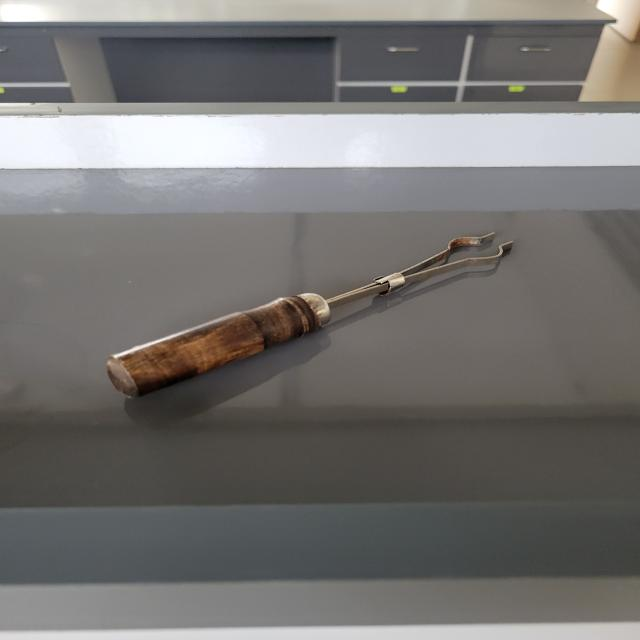TestTube_Holder: (92, 191, 540, 432)
